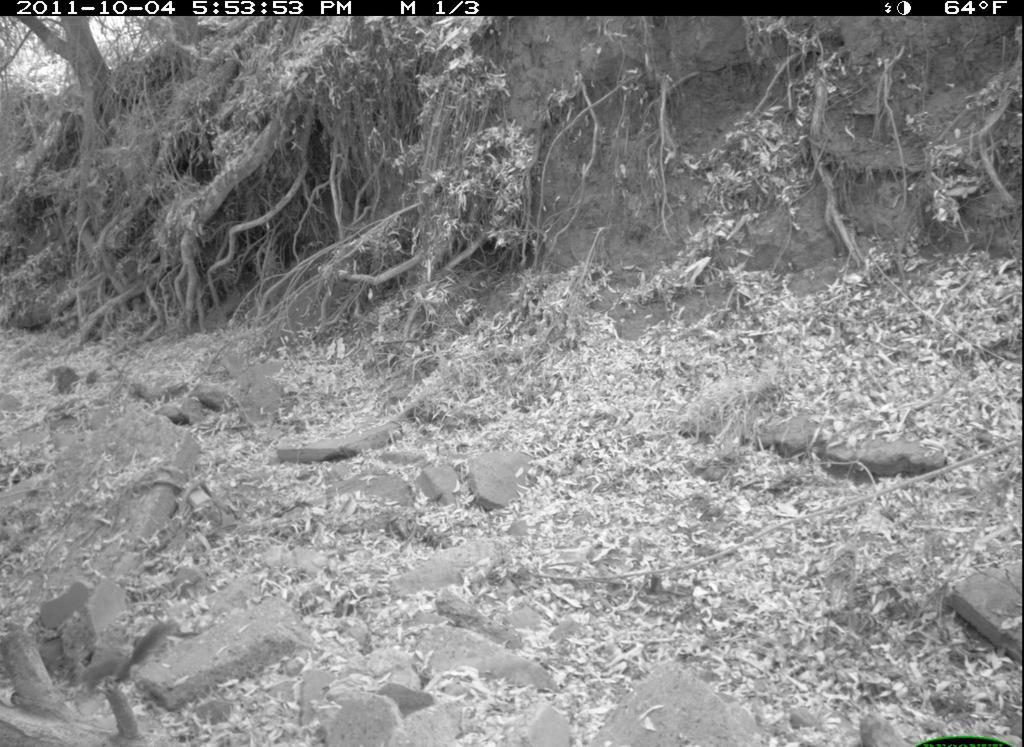squirrel: (65, 614, 186, 700)
